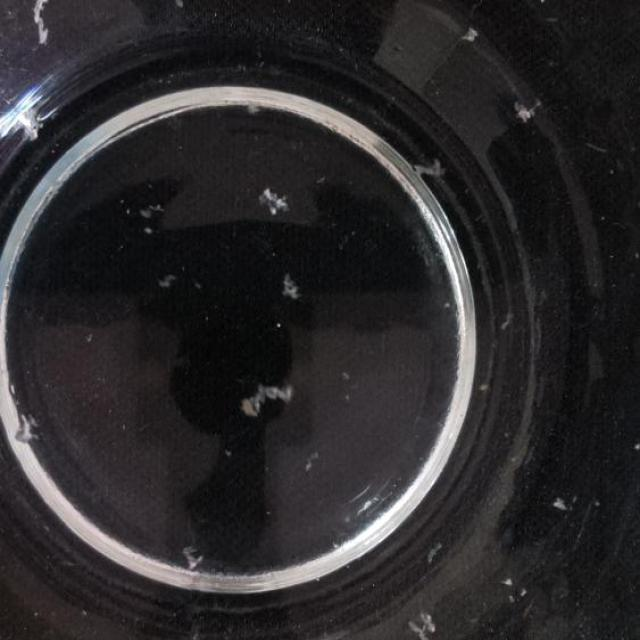fiber: (240, 381, 300, 416), (252, 185, 290, 225), (32, 0, 58, 52), (404, 609, 446, 639), (147, 0, 227, 14), (413, 159, 450, 187), (510, 94, 540, 123), (15, 417, 40, 449), (282, 267, 306, 299), (183, 538, 207, 568), (301, 450, 321, 476), (426, 540, 444, 564), (464, 23, 483, 45), (499, 308, 513, 334), (548, 497, 569, 512), (150, 204, 172, 218), (159, 270, 174, 288), (139, 224, 151, 241), (138, 200, 148, 217), (480, 380, 490, 396)
